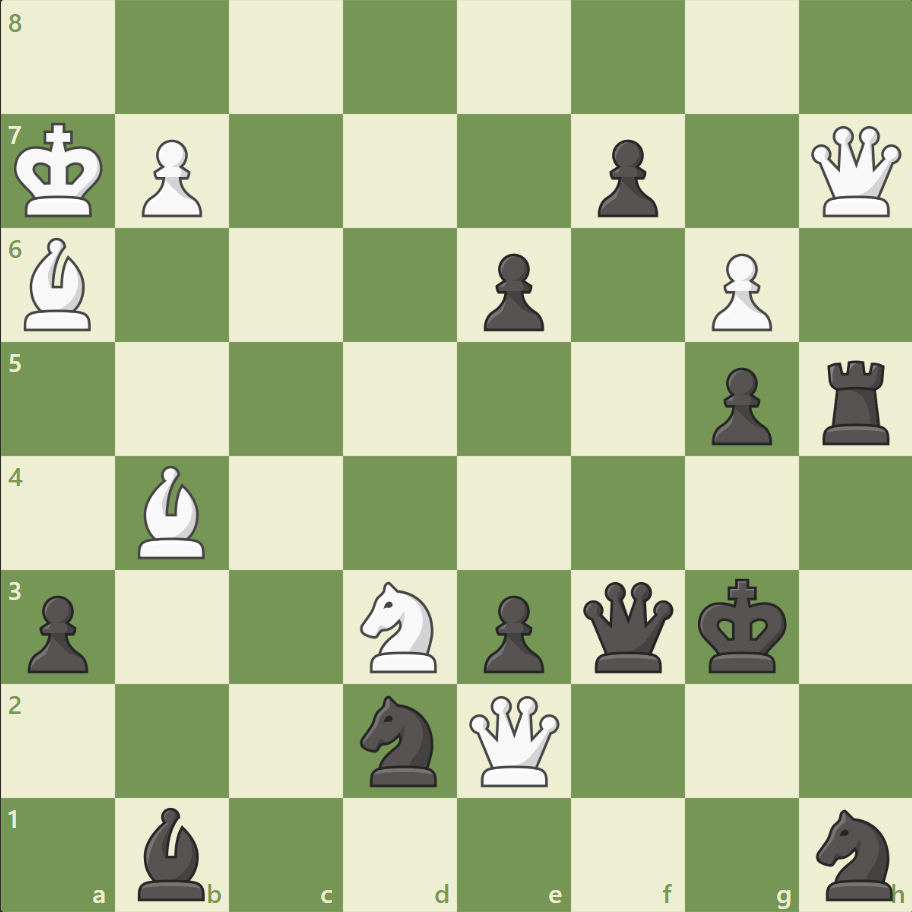B: (17, 233, 101, 336), (131, 460, 215, 563)
K: (11, 117, 111, 225)
N: (351, 575, 449, 677)
P: (133, 132, 208, 223), (701, 246, 776, 337)
Q: (805, 122, 904, 222), (464, 690, 563, 789)
b: (131, 801, 215, 904)
k: (692, 571, 792, 679)
n: (351, 688, 449, 791), (806, 802, 903, 904)
p: (474, 246, 549, 337), (701, 359, 776, 450), (20, 586, 95, 677), (474, 586, 549, 677), (588, 132, 662, 223)
q: (578, 576, 677, 676)
r: (814, 352, 897, 449)
